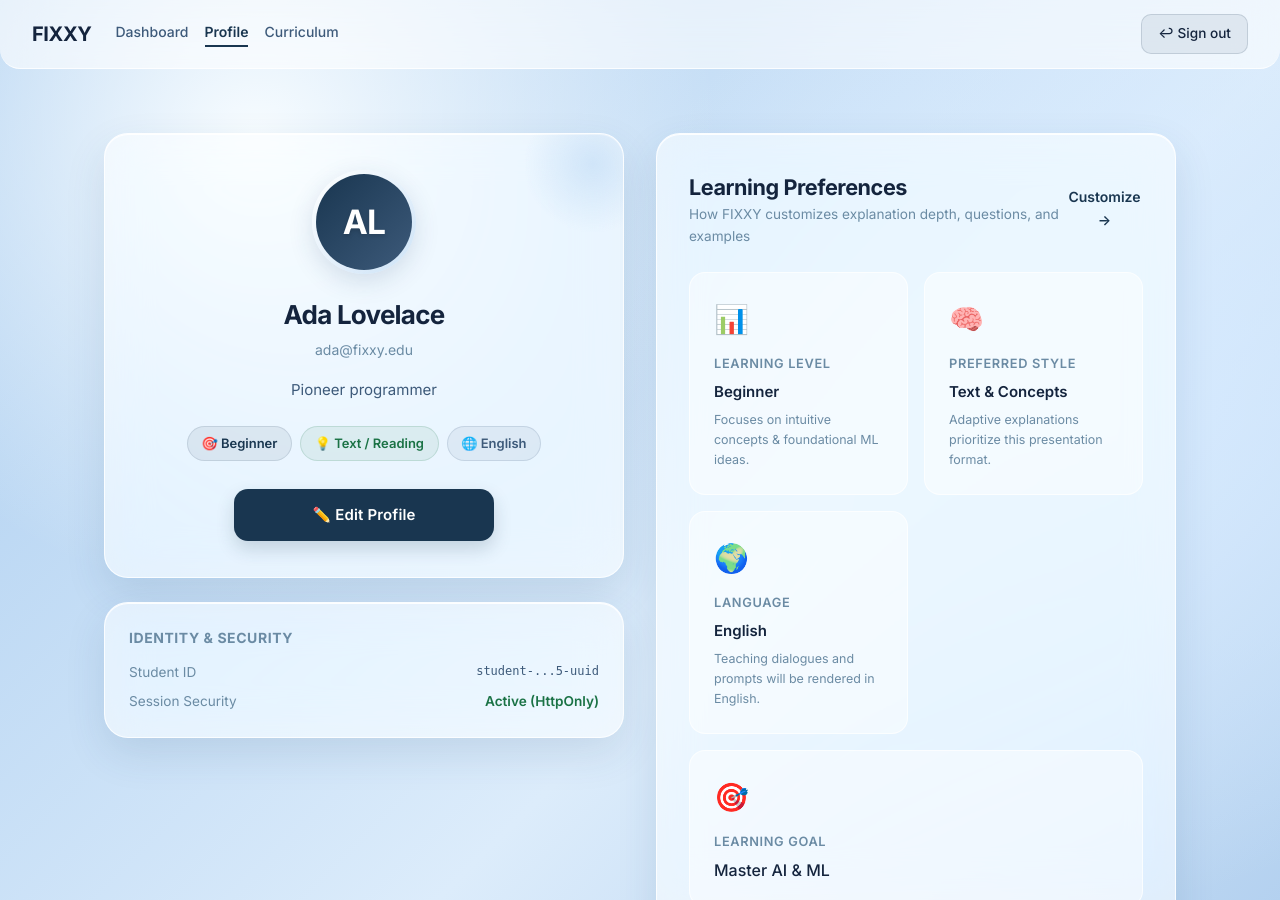
Test: ProfilePage › cancels edit mode and restores view mode without saving
Expected: the heading "Ada Lovelace" is shown, [284,294,444,335]
Click the button with aria-label "edit student profile": (364, 515) [234,489,494,541]
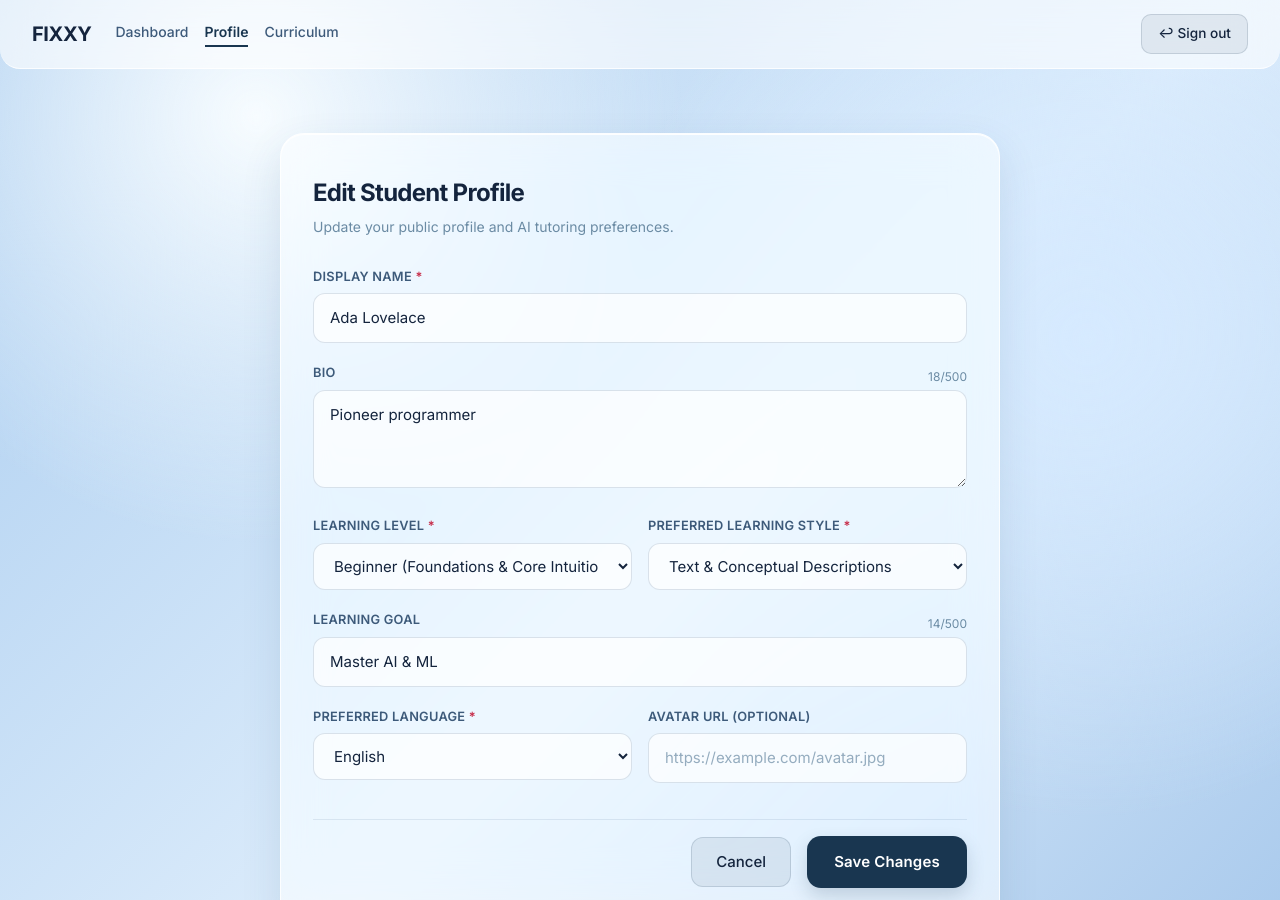
Replace the text in the field labelled "Display Name *" with "Changed Name": (640, 318) [313,293,967,343]
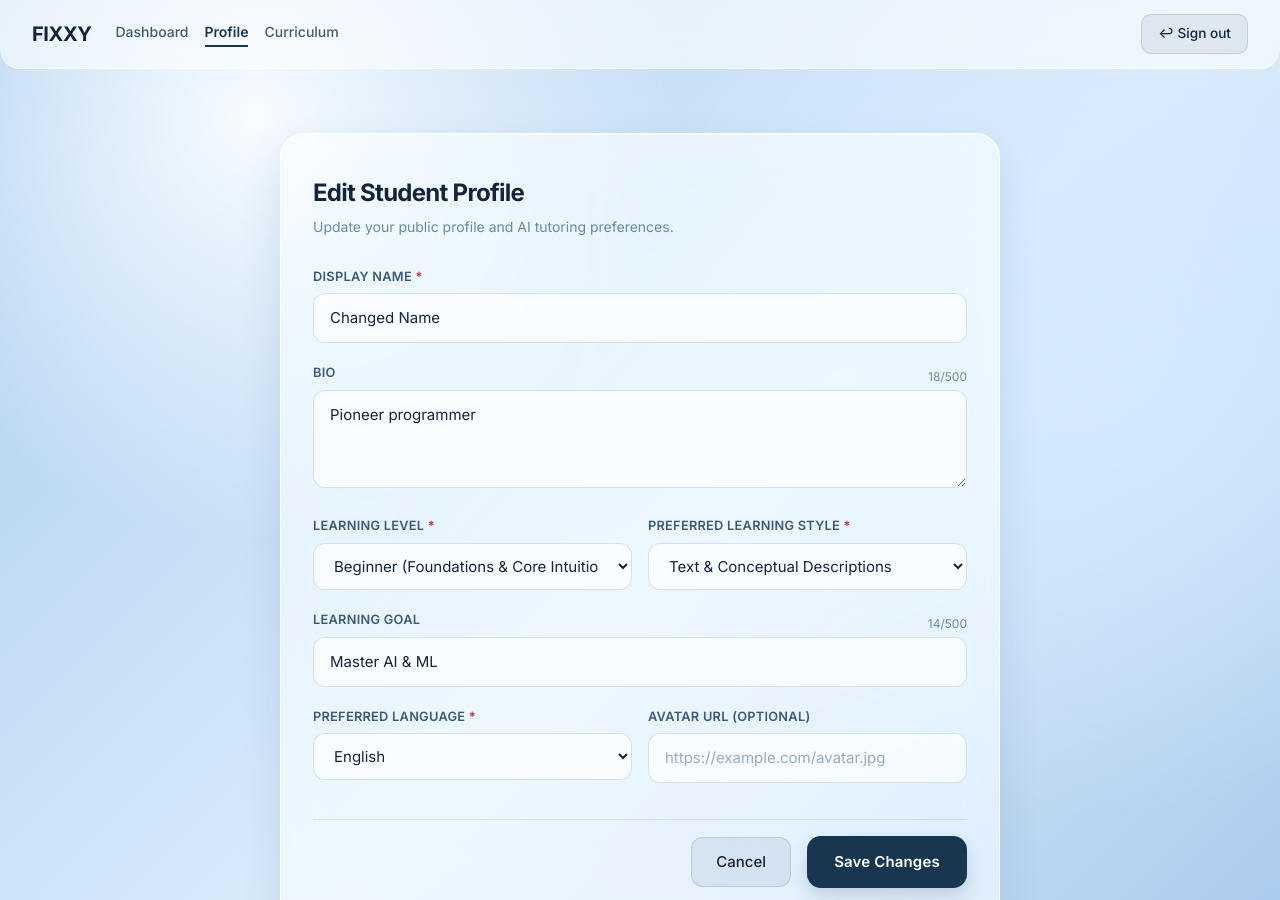
# Click Cancel
Click the button "Cancel": (741, 862) [691,837,791,887]
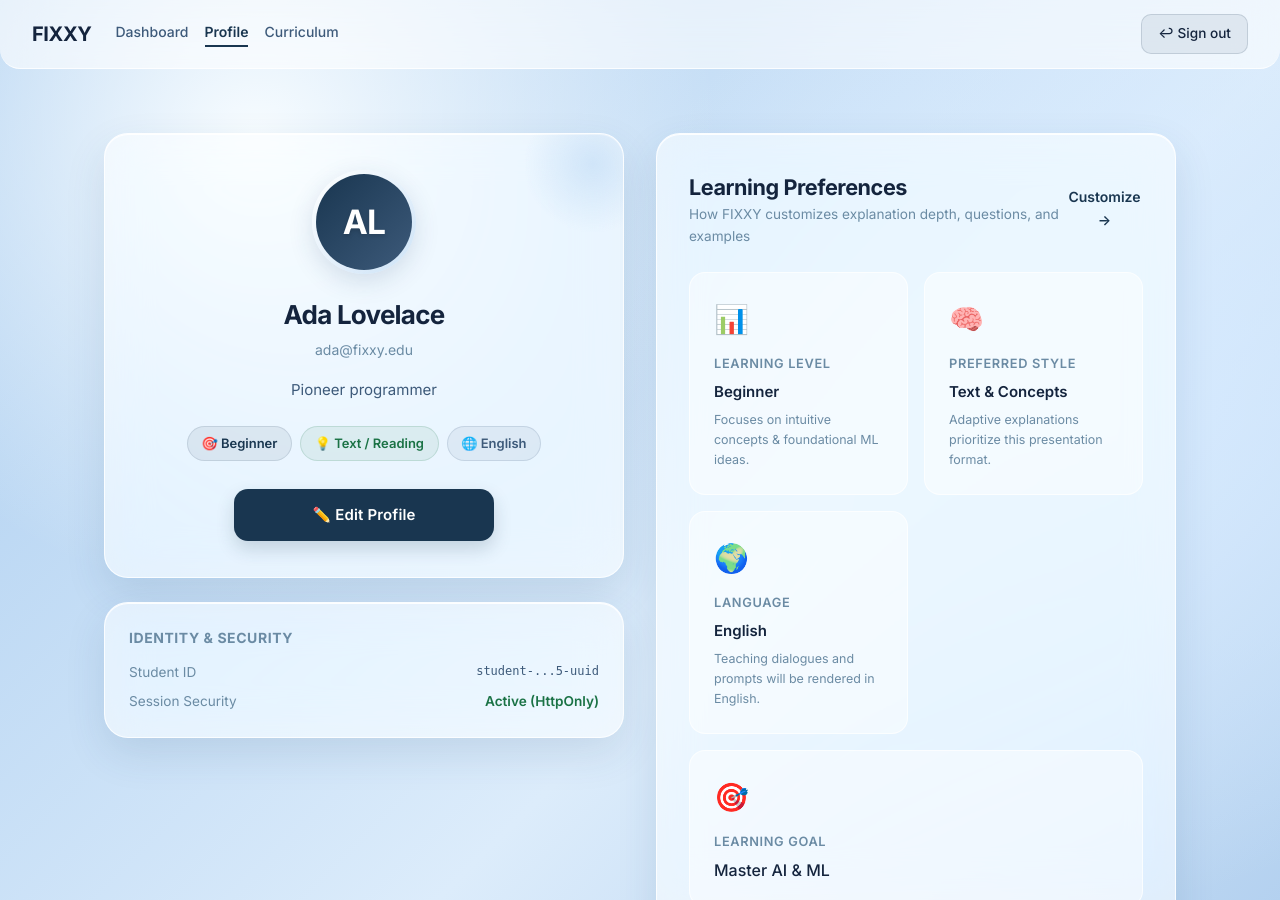
Expected: the heading "Ada Lovelace" is shown, [284,294,444,335]
